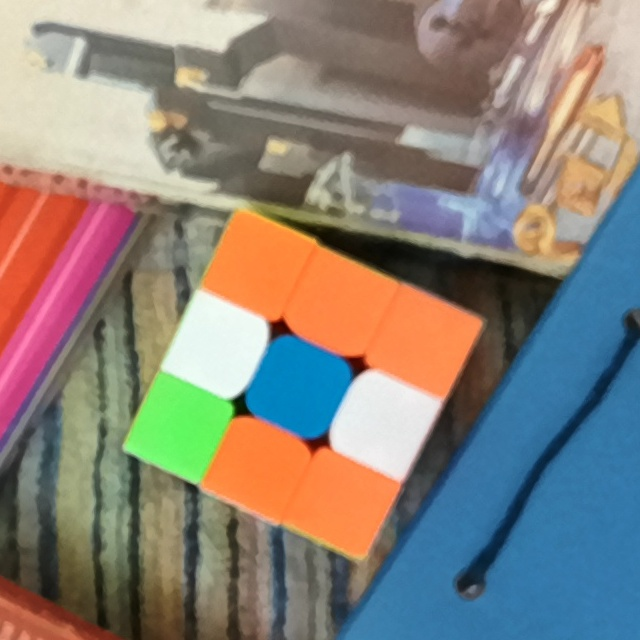tile: (223, 436, 293, 495), (393, 311, 458, 374), (307, 473, 376, 532), (352, 390, 417, 452), (306, 271, 367, 337), (223, 237, 287, 298), (267, 358, 332, 418), (147, 397, 209, 458), (185, 319, 246, 379)
